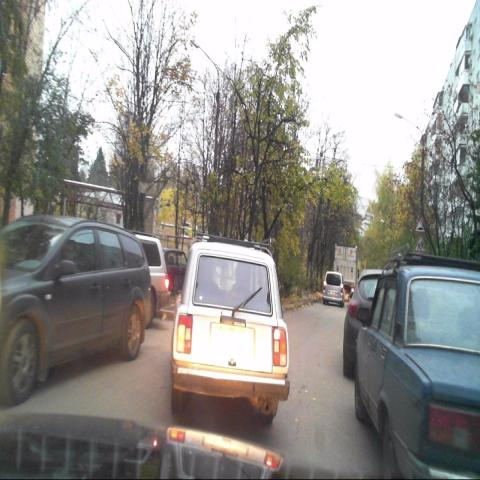1_17: (415, 215, 426, 233)
1_23: (414, 235, 425, 253)
